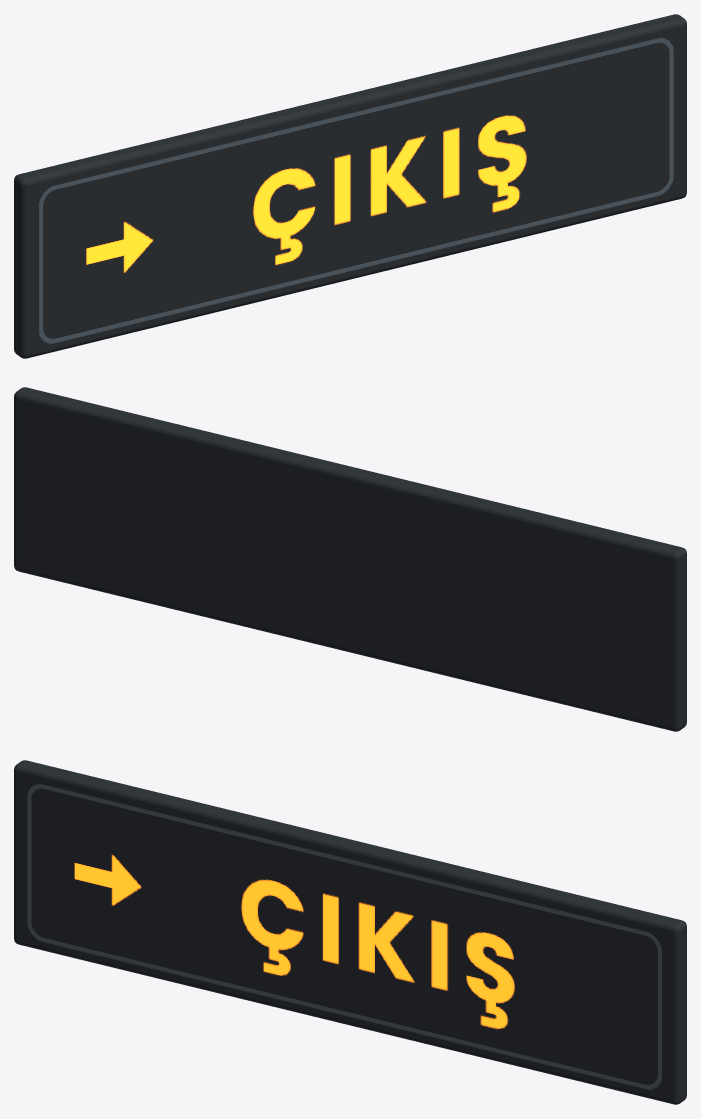
File: SM_DoorSign_Cikis.glb
3 views of the same model, one above another, from view 1: azimuth 30°, elevation 25°; view 2: azimuth 150°, elevation 25°; view 3: azimuth 330°, elevation 25° (orthographic).
Visible parts, largest first — view 1: SM_DoorSign_Cikis; view 2: SM_DoorSign_Cikis; view 3: SM_DoorSign_Cikis.
Boxes of the visible parts, bbox=[...] form: SM_DoorSign_Cikis: bbox=[14, 14, 686, 358]; SM_DoorSign_Cikis: bbox=[14, 387, 686, 731]; SM_DoorSign_Cikis: bbox=[14, 760, 686, 1104].
Size of the model in its own units: 1.24 by 0.32 by 0.0365.
Materials: 2 (2 with a texture image).
